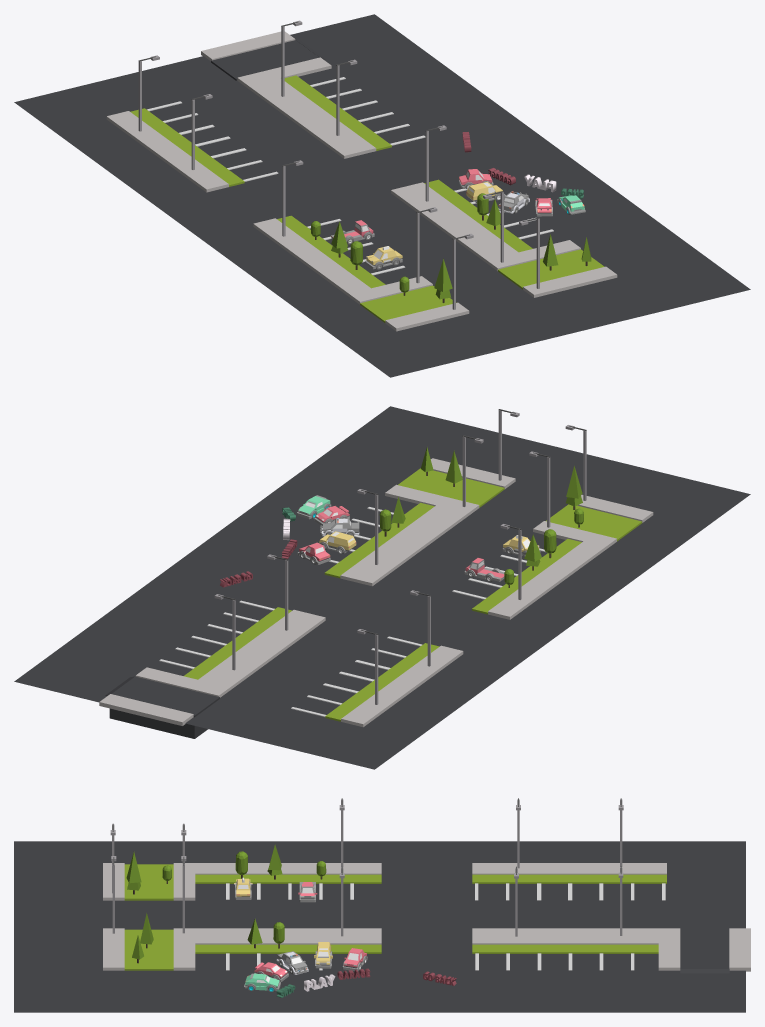
File: blender1withgaragev1.fbx
3 views of the same model, one above another, from view 1: azimuth 30°, elevation 25°; view 2: azimuth 150°, elevation 25°; view 3: azimuth 270°, elevation 25° (orthographic). The views are drawn at different scales.
Parts seen in each view (by area): view 1: Plane_Plane.001, Cube.905_Cube.3610, Cube.905_Cube.001, Cube.030_Cube.042, Cube; view 2: Plane_Plane.001, Cube.905_Cube.3610, Cube.905_Cube.001, Cube.030_Cube.042, Cube; view 3: Plane_Plane.001, Cube.905_Cube.3610, Cube.905_Cube.001, Cube.030_Cube.042, Cube, body.001, body, body.004, body.002, Cube.024_Cube.001, body.003.
Part boxes in pixels (x1,y1,x2,y2): Plane_Plane.001: (14,14,750,377); Cube.905_Cube.3610: (253,179,617,297); Cube.905_Cube.001: (106,31,391,192); Cube.030_Cube.042: (349,276,469,331); Cube: (211,40,318,80); Plane_Plane.001: (14,406,750,769); Cube.905_Cube.3610: (324,458,605,619); Cube.905_Cube.001: (99,607,463,727); Cube.030_Cube.042: (533,494,653,549); Cube: (109,676,219,738); Plane_Plane.001: (14,841,745,1012); Cube.905_Cube.3610: (103,863,381,970); Cube.905_Cube.001: (472,863,750,971); Cube.030_Cube.042: (103,863,195,900); Cube: (680,929,729,968); body.001: (244,973,280,990); body: (276,951,308,974); body.004: (314,942,332,968); body.002: (342,948,367,970); Cube.024_Cube.001: (475,953,603,970); body.003: (254,962,288,981).
Bounding box in the file's own units: 3213 × 812 × 5845.
